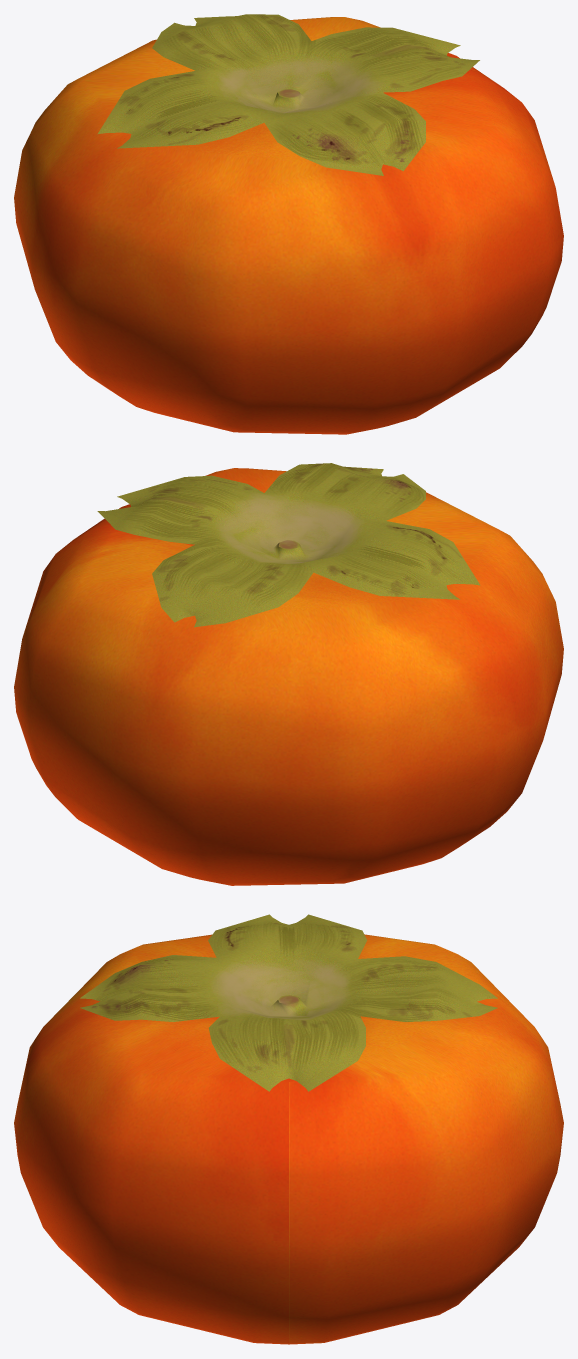
The model's file is Persimmon_Ver2.FBX.
The picture shows the model from 3 angles, top to bottom: view 1: azimuth 30°, elevation 25°; view 2: azimuth 150°, elevation 25°; view 3: azimuth 270°, elevation 25°; orthographic projection.
Visible parts, largest first — view 1: Box001, オブジェクト001; view 2: Box001, オブジェクト001; view 3: Box001, オブジェクト001.
Part boxes in pixels (<box>): Box001: <box>14,17,563,434</box>; オブジェクト001: <box>97,14,479,175</box>; Box001: <box>14,468,563,885</box>; オブジェクト001: <box>97,463,480,627</box>; Box001: <box>14,934,563,1344</box>; オブジェクト001: <box>80,914,497,1091</box>.
Bounding box in the file's own units: 48.74 × 48.74 × 30.8.
1 material, 1 textured.
